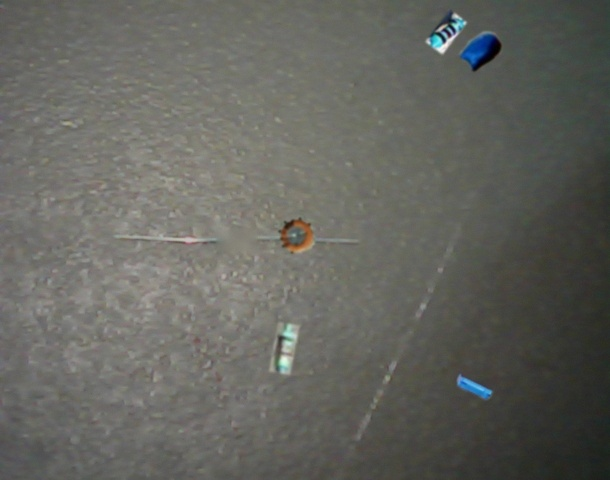capacitor: (460, 32, 502, 72), (278, 217, 315, 254), (456, 373, 493, 399)
resistor: (426, 10, 467, 54), (269, 322, 299, 375)
